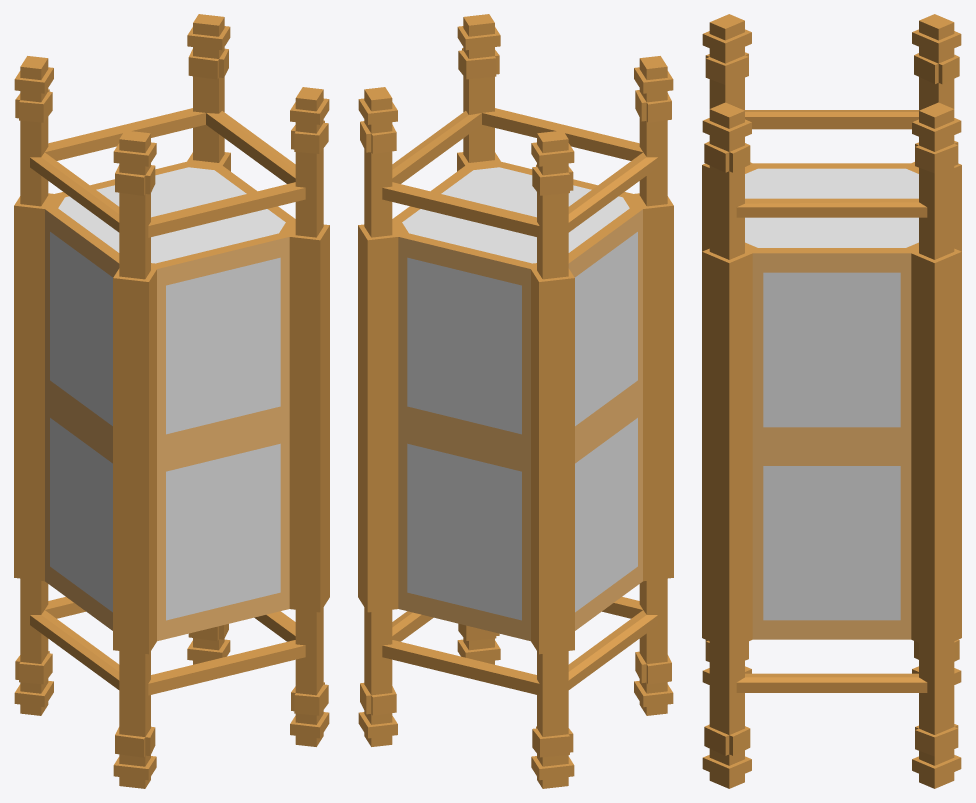
The model's file is NNJ0310015.fbx.
3 renders of one model, left to right at view 1: azimuth 30°, elevation 25°; view 2: azimuth 150°, elevation 25°; view 3: azimuth 270°, elevation 25°, orthographic. The views are drawn at different scales.
Visible parts, largest first — view 1: smNNJ0310015; view 2: smNNJ0310015; view 3: smNNJ0310015.
Boxes of the visible parts, x1,y1,x2,y2 form: smNNJ0310015: (14, 14, 329, 788); smNNJ0310015: (358, 14, 673, 788); smNNJ0310015: (702, 14, 961, 788).
Size of the model in its own units: 43.97 by 125 by 43.97.
Materials: 1 (1 with a texture image).
